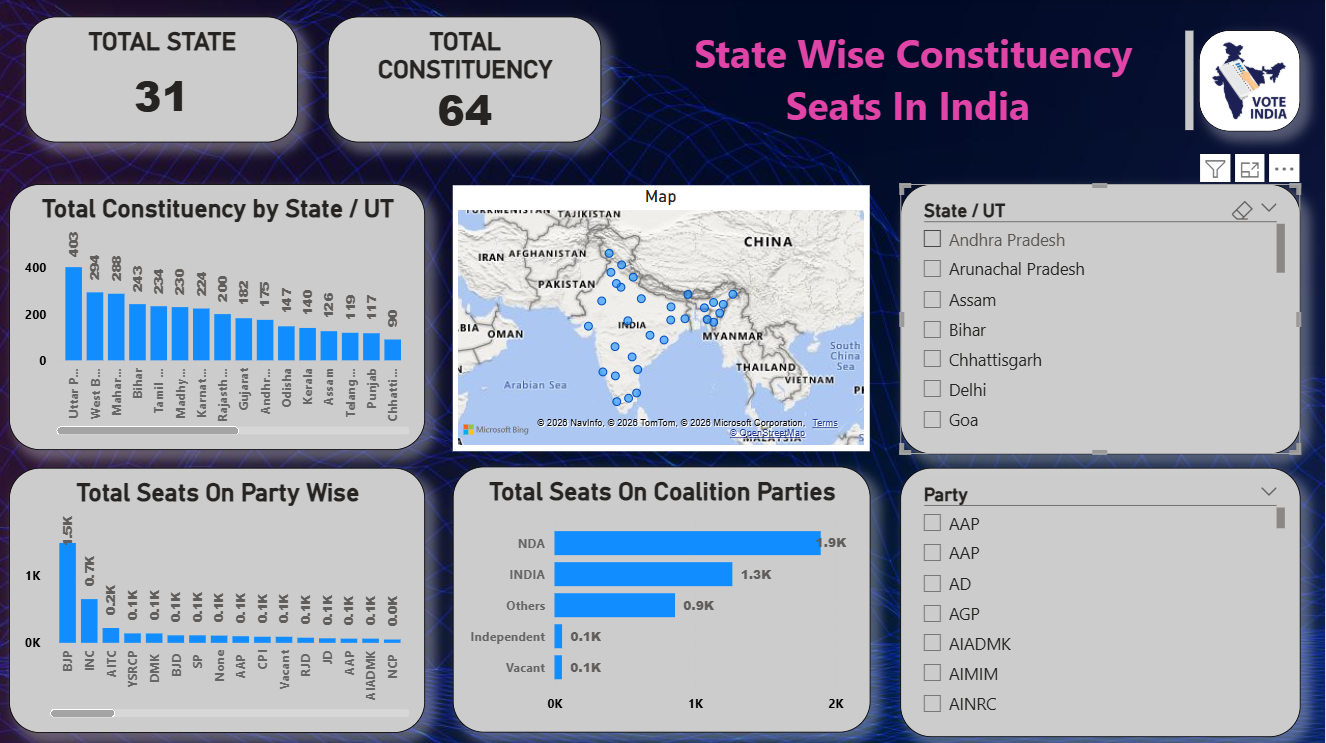

The dashboard page shown, as its layout file describes it:
{"tool":"powerbi","page":{"name":"Page 1","canvas":[1280,720],"ordinal":0},"visuals":[{"type":"card","title":"TOTAL STATE","fields":{"Values":["Count(Data.State / UT)"]},"box":[792.6,32.6,226.8,105],"z":0},{"type":"card","title":"TOTAL CONTITUENCY","fields":{"Values":["Count(Data.Total Constituency)"]},"box":[1042.4,32.6,228,103.8],"z":1000},{"type":"columnChart","title":"Total Constituency by State / UT","fields":{"Category":["Data.State / UT"],"Y":["Sum(Data.Total Constituency)"]},"box":[279.9,152.3,477.5,259.3],"z":2000},{"type":"map","fields":{"Category":["Data.State / UT"]},"box":[793.1,152.3,477.5,259.3],"z":3000},{"type":"columnChart","title":"TOTAL SEATS ON PARTY WISE","fields":{"Y":["Sum(Data.Total Constituency)"],"Category":["Data.Party"]},"box":[279.9,435,477.5,256.6],"z":4000},{"type":"clusteredBarChart","title":"TOTAL SEATS ON COALITION PARTIES","fields":{"Category":["Data.NDA / INDI"],"Y":["Sum(Data.Total Constituency)"]},"box":[793.1,435,477.5,256.6],"z":5000},{"type":"slicer","fields":{"Values":["Data.State / UT"]},"box":[34.3,152.3,223.7,259.3],"z":6000},{"type":"slicer","fields":{"Values":["Data.Party"]},"box":[35.7,432.2,223.7,259.3],"z":7000},{"type":"textbox","box":[237.4,13.7,544.8,138.6],"z":8000},{"type":"image","box":[33.8,13.3,167.7,124.3],"z":9000}]}

Visuals, with their boxes in screenshot pixels (x1, y1, x2, y2), scaled from the page's 1280x720 canvas onto the 1326x743 screenshot:
"TOTAL STATE" card: [821,34,1056,142]
"TOTAL CONTITUENCY" card: [1080,34,1316,141]
"Total Constituency by State / UT" columnChart: [290,157,785,425]
map - Data.State / UT: [822,157,1316,425]
"TOTAL SEATS ON PARTY WISE" columnChart: [290,449,785,714]
"TOTAL SEATS ON COALITION PARTIES" clusteredBarChart: [822,449,1316,714]
slicer - Data.State / UT: [36,157,267,425]
slicer - Data.Party: [37,446,269,714]
textbox: [246,14,810,157]
image: [35,14,209,142]
